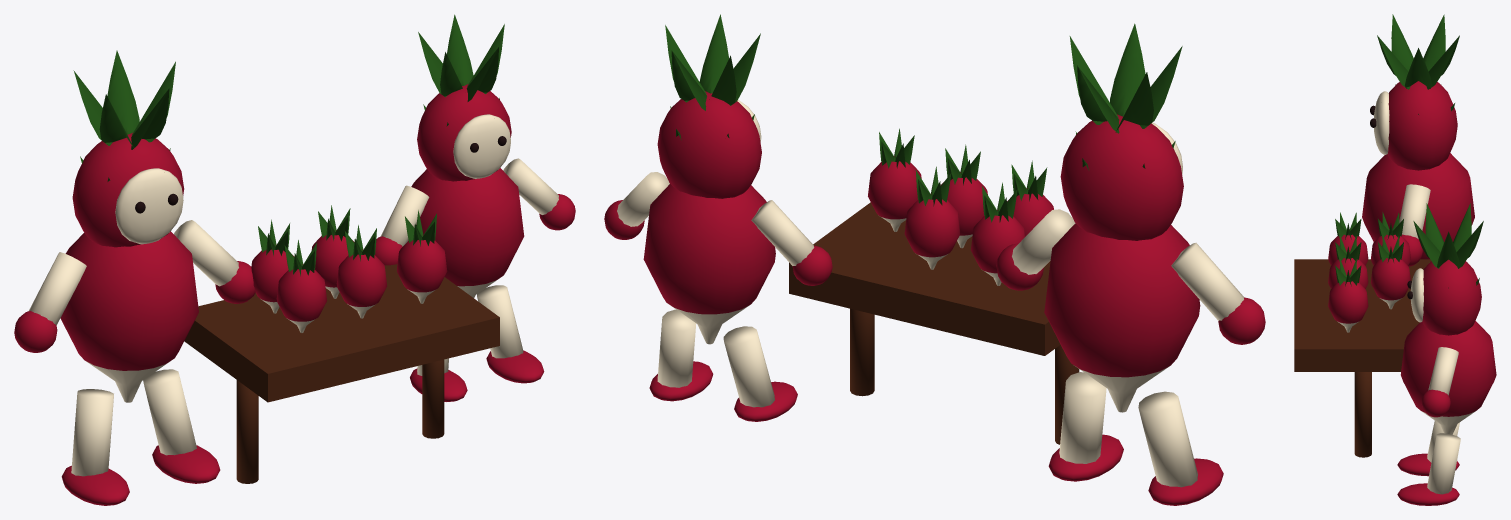
Rendered from mercado.obj.
3 renders of one model, left to right at view 1: azimuth 30°, elevation 25°; view 2: azimuth 150°, elevation 25°; view 3: azimuth 270°, elevation 25°, orthographic. The views are drawn at different scales.
Parts seen in each view (by area): view 1: Cube, Rabano_tallado.003, Rabano_tallado.004, Sphere.024, Sphere.032, Sphere.025, Cone.012, Cone.014, Sphere.033, Rabano_tallado.005, Rabano_tallado.006, Rabano_tallado.007 (+22 smaller); view 2: Rabano_tallado.003, Cube, Rabano_tallado.004, Sphere.024, Sphere.032, Cone.012, Cone.014, Cone.016, Rabano_tallado.009, Cone.013, Rabano_tallado.007, Cone.018 (+22 smaller); view 3: Cube, Rabano_tallado.004, Rabano_tallado.003, Sphere.024, Sphere.032, Cone.021, Cone.018, Rabano_tallado.007, Rabano_tallado.009, Cone.015, Cone.019, Sphere.038 (+19 smaller).
Part boxes in pixels (x1,y1,x2,y2): Cube: (184,264,499,402); Rabano_tallado.003: (60,231,198,402); Rabano_tallado.004: (411,168,524,297); Sphere.024: (72,133,184,247); Sphere.032: (417,84,511,181); Sphere.025: (115,168,183,244); Cone.012: (71,389,113,476); Cone.014: (143,369,196,455); Sphere.033: (453,114,510,178); Rabano_tallado.005: (276,264,326,332); Rabano_tallado.006: (336,249,386,318); Rabano_tallado.007: (397,235,447,303); Rabano_tallado.003: (1044,223,1200,412); Cube: (789,202,1060,355); Rabano_tallado.004: (643,184,775,344); Sphere.024: (1060,114,1183,240); Sphere.032: (657,91,761,198); Cone.012: (1138,391,1197,487); Cone.014: (1059,372,1106,463); Cone.016: (723,326,774,407); Rabano_tallado.009: (904,193,960,269); Cone.013: (1171,242,1244,320); Rabano_tallado.007: (868,156,921,231); Cone.018: (657,309,696,387); Cube: (1294,259,1430,371); Rabano_tallado.004: (1400,321,1496,434); Rabano_tallado.003: (1362,153,1474,259); Sphere.024: (1387,81,1457,170); Sphere.032: (1422,259,1481,335); Cone.021: (1354,372,1371,457); Cone.018: (1427,433,1460,494); Rabano_tallado.007: (1328,281,1368,332); Rabano_tallado.009: (1370,258,1410,309); Cone.015: (1399,184,1430,238); Cone.019: (1428,347,1458,395); Sphere.038: (1397,483,1459,505).
Size of the model in its own units: 2.54 by 1.7 by 0.9704.
